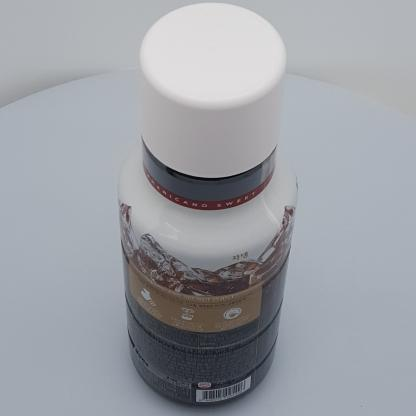--------------1-1L: (117, 3, 299, 407)
